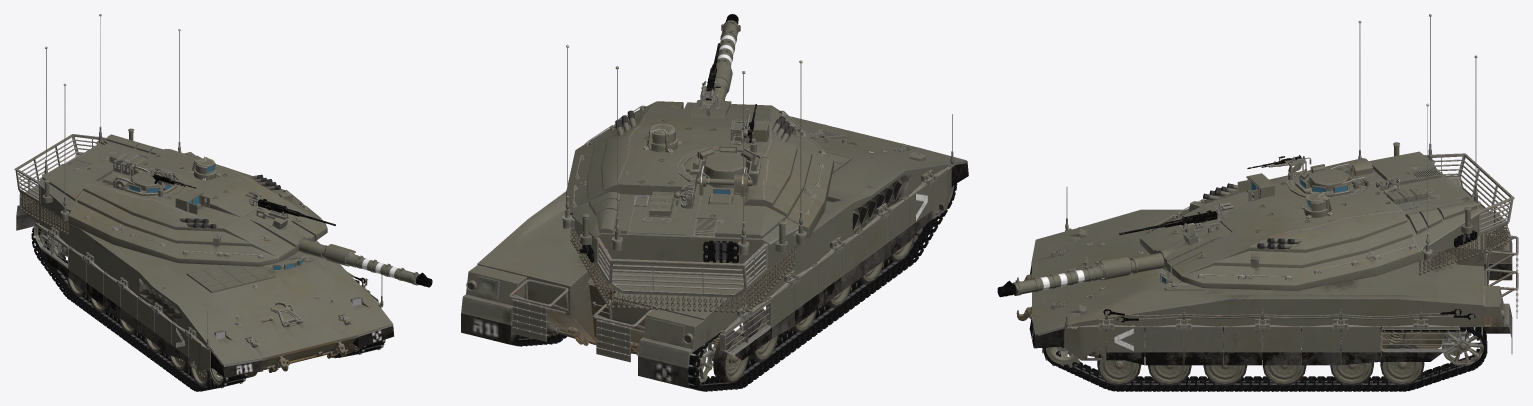
Rendered from merkava-mk4.glb.
The picture shows the model from 3 angles, left to right: view 1: azimuth 30°, elevation 25°; view 2: azimuth 150°, elevation 25°; view 3: azimuth 270°, elevation 25°; orthographic projection. The views are drawn at different scales.
Visible parts, largest first — view 1: merkava_mk4_merkava_0; view 2: merkava_mk4_merkava_0; view 3: merkava_mk4_merkava_0.
Boxes of the visible parts, bbox=[...] form: merkava_mk4_merkava_0: bbox=[14, 14, 432, 391]; merkava_mk4_merkava_0: bbox=[461, 14, 968, 391]; merkava_mk4_merkava_0: bbox=[997, 14, 1518, 391].
Bounding box in the file's own units: 0.0591 × 0.0641 × 0.1071.
1 material, 1 textured.
